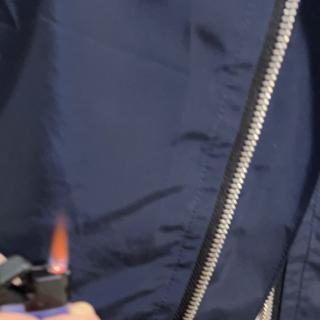fire: (46, 212, 71, 276)
